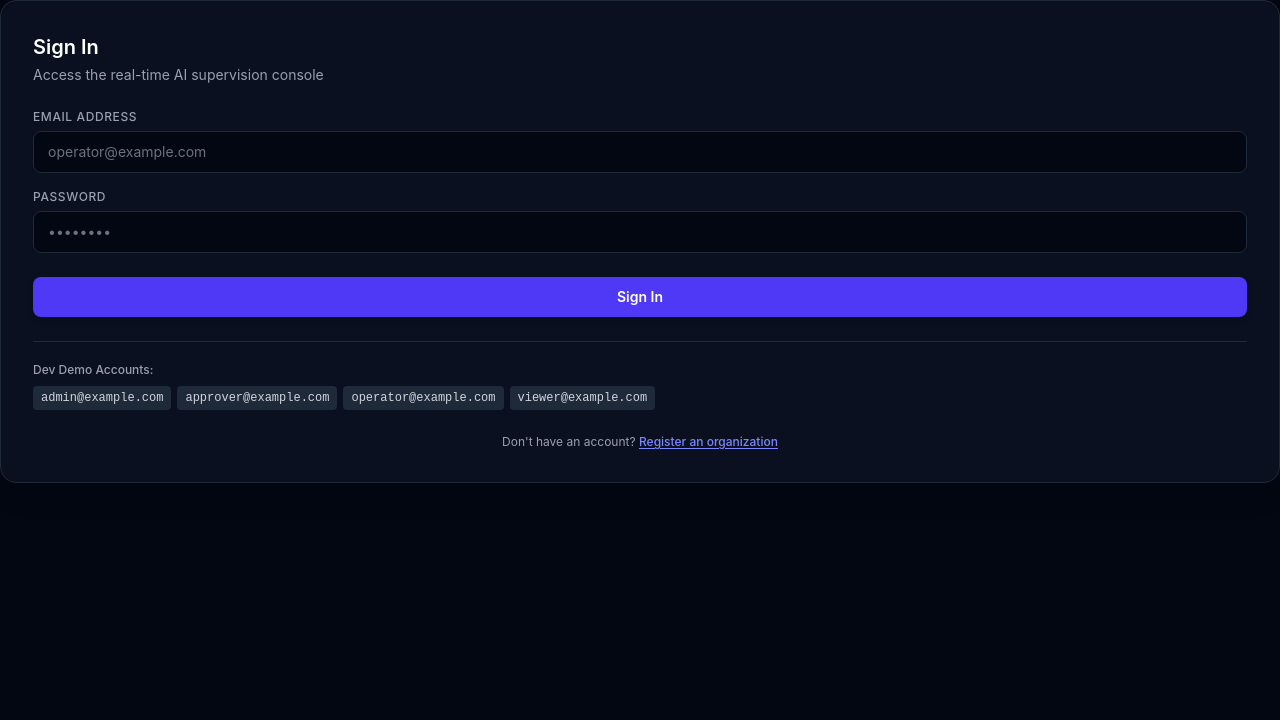
Test: Auth Integration and Unit Tests › 7. Rate-limit error displays the retry time
This screenshot has width=1280, height=720.
Type "rate@example.com" into the field labelled "Email Address" at (640,152), box [33,131,1247,173]
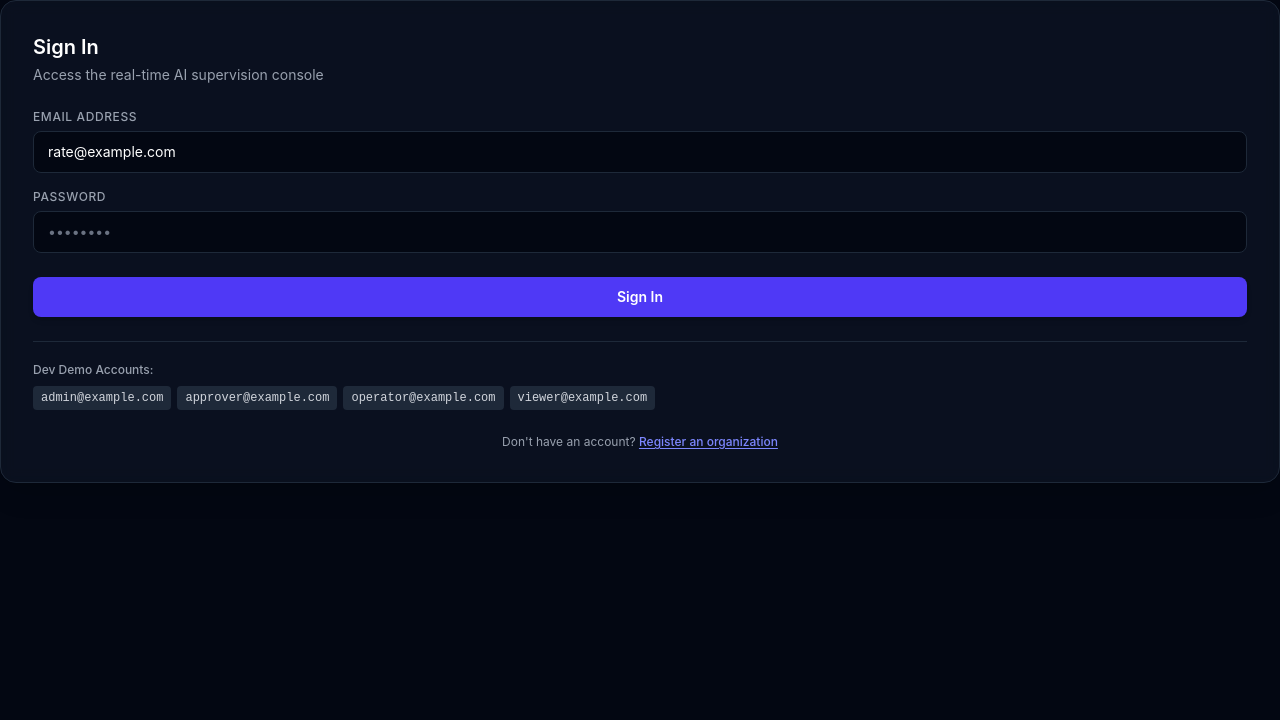
Type "Password123!" into the password field labelled "Password" at (640,232), box [33,211,1247,253]
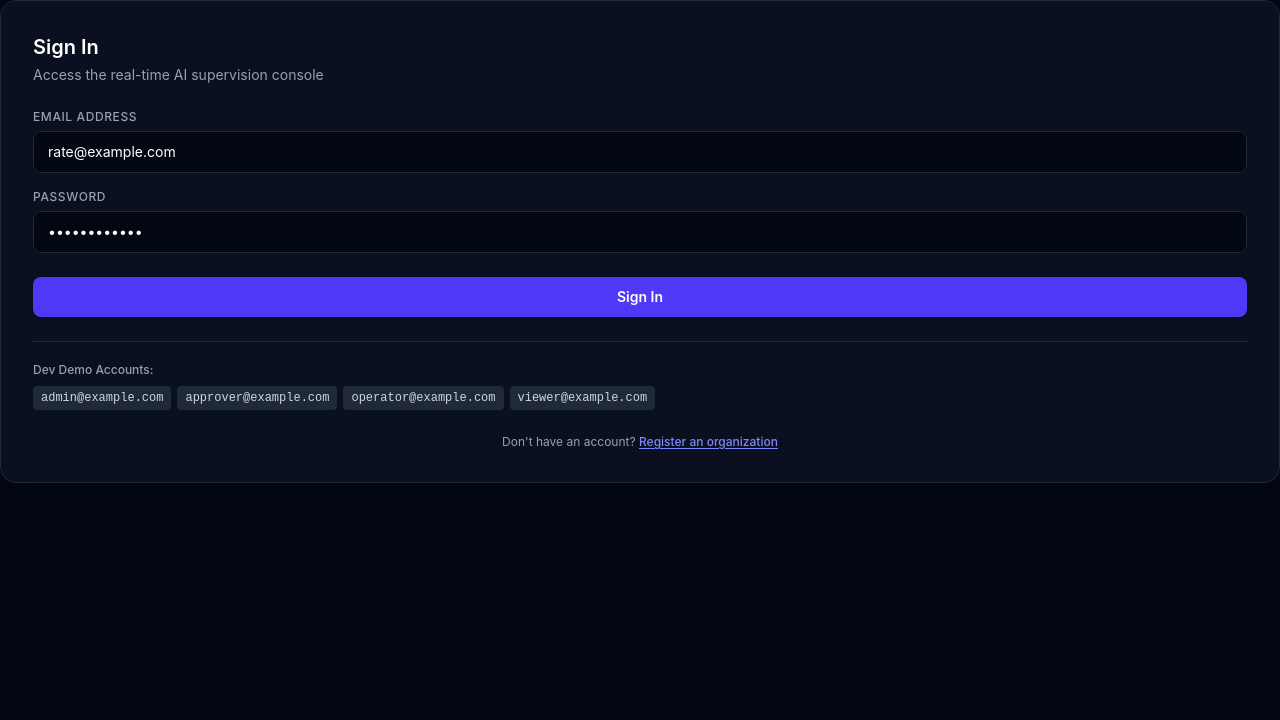
Click the button "Sign In" at (640,297), box [33,277,1247,317]
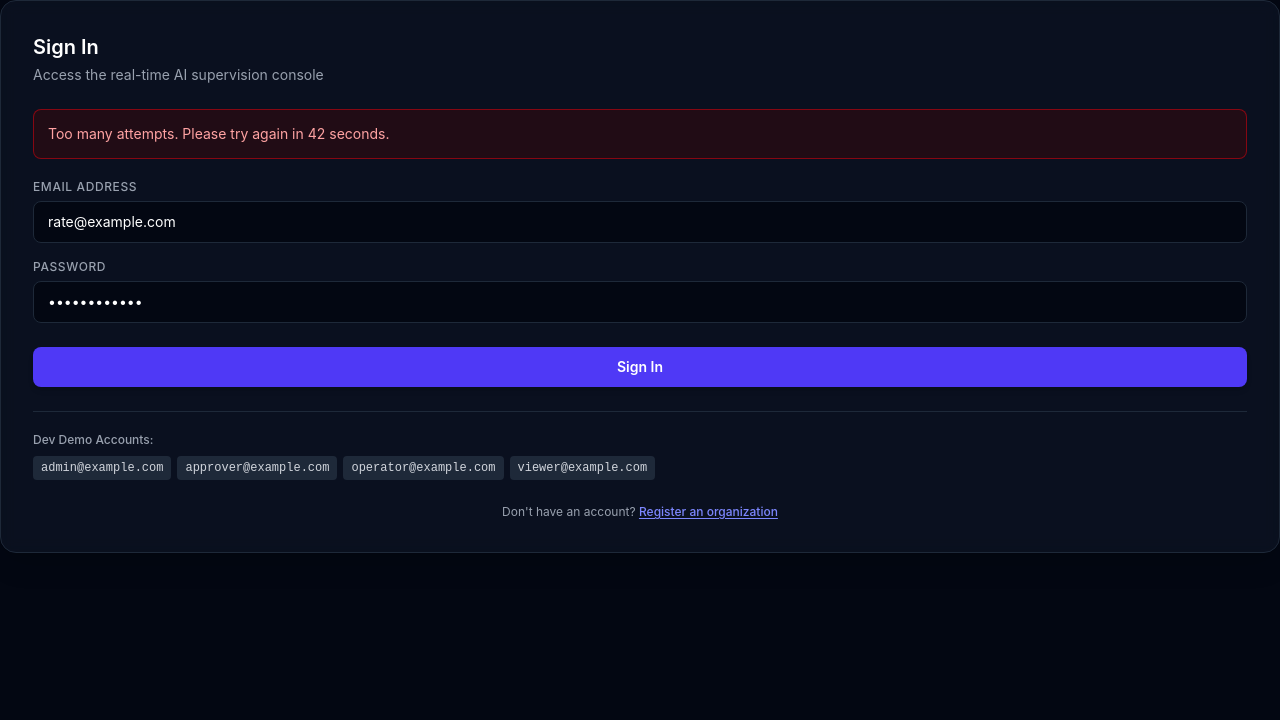
Expected: the text "Too many attempts. Please try again in 42 seconds." is shown, [33,109,1247,159]
